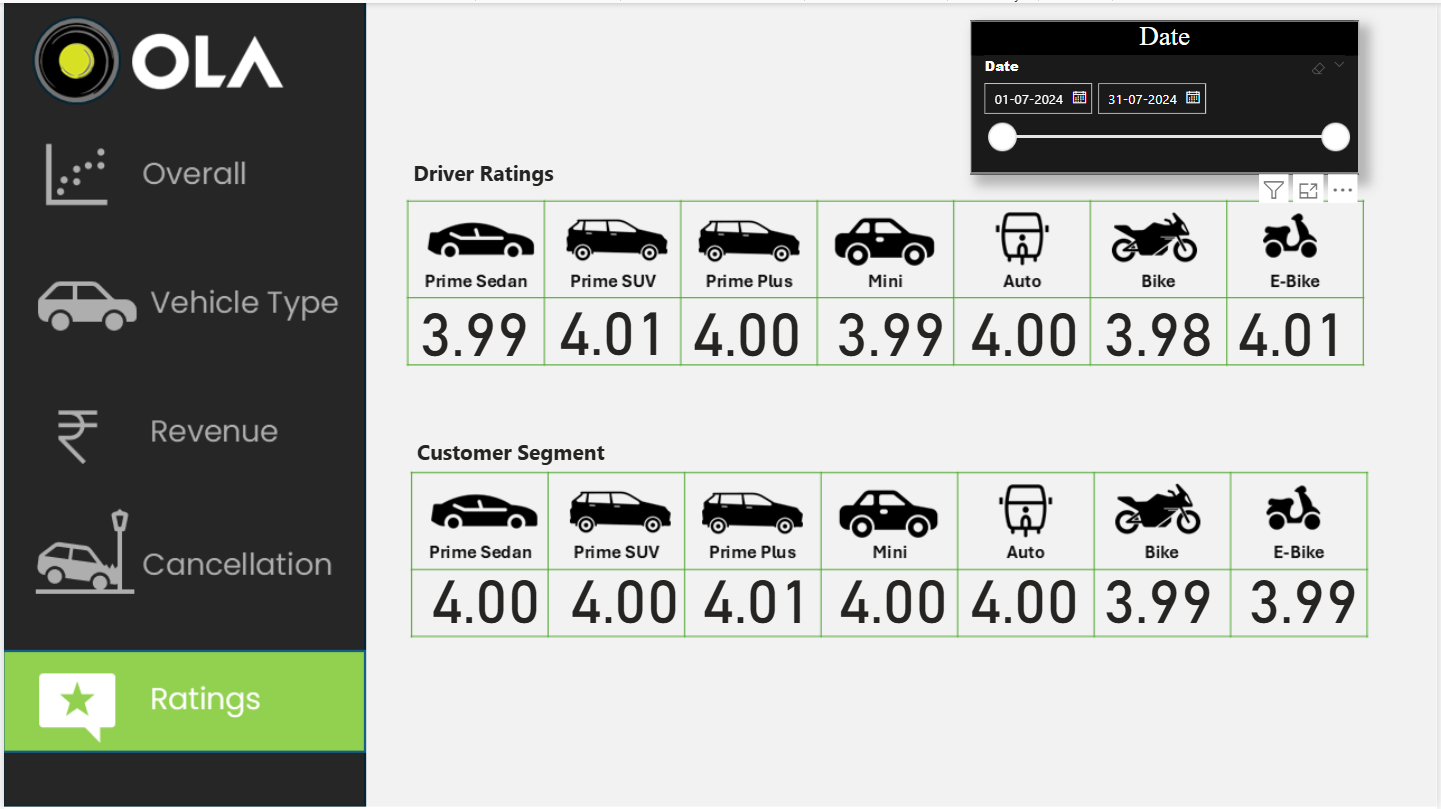

Layout of this report page (visuals, bound fields, positions):
{"tool":"powerbi","page":{"name":"Rating","canvas":[1280,720],"ordinal":4},"visuals":[{"type":"actionButton","box":[0,336,325.6,93],"z":0},{"type":"actionButton","box":[0,447.7,325.6,93],"z":1000},{"type":"actionButton","box":[0,576.7,325.6,93],"z":2000},{"type":"actionButton","box":[0,223.3,325.6,93],"z":3000},{"type":"actionButton","box":[0,447.7,325.6,93],"z":4000},{"type":"card","fields":{"Values":["Avg(July (2).Driver_Ratings)"]},"box":[360.9,256.6,119.4,65.9],"z":5000},{"type":"card","fields":{"Values":["Avg(July (2).Driver_Ratings)"]},"box":[603.8,256.6,119.4,65.9],"z":6000},{"type":"card","fields":{"Values":["Avg(July (2).Driver_Ratings)"]},"box":[732.8,256.6,119.4,65.9],"z":7000},{"type":"card","fields":{"Values":["Avg(July (2).Driver_Ratings)"]},"box":[852.1,256.6,119.4,65.9],"z":8000},{"type":"card","fields":{"Values":["Avg(July (2).Driver_Ratings)"]},"box":[971.5,256.6,119.4,65.9],"z":9000},{"type":"card","fields":{"Values":["Avg(July (2).Driver_Ratings)"]},"box":[1090.9,256.6,119.4,65.9],"z":10000},{"type":"card","fields":{"Values":["Avg(July (2).Driver_Ratings)"]},"box":[489.9,251.1,108.4,75.5],"z":11000},{"type":"textbox","box":[360.9,134.5,148.2,37],"z":12000},{"type":"textbox","box":[363.6,382.8,231.9,45.3],"z":13000},{"type":"card","fields":{"Values":["Avg(July (2).Customer_Rating)"]},"box":[370.5,494,119.4,65.9],"z":14000},{"type":"card","fields":{"Values":["Avg(July (2).Customer_Rating)"]},"box":[489.9,494,129,65.9],"z":15000},{"type":"card","fields":{"Values":["Avg(July (2).Customer_Rating)"]},"box":[1100.5,494,119.4,65.9],"z":16000},{"type":"card","fields":{"Values":["Avg(July (2).Customer_Rating)"]},"box":[971.5,494,119.4,65.9],"z":17000},{"type":"card","fields":{"Values":["Avg(July (2).Customer_Rating)"]},"box":[852.1,494,119.4,65.9],"z":18000},{"type":"card","fields":{"Values":["Avg(July (2).Customer_Rating)"]},"box":[734.1,494,119.4,65.9],"z":19000},{"type":"card","fields":{"Values":["Avg(July (2).Customer_Rating)"]},"box":[613.4,494,119.4,65.9],"z":20000},{"type":"slicer","title":"Date","fields":{"Values":["July (2).Date"]},"box":[863.1,15.1,347.2,137.2],"z":21000}]}

Visuals, with their boxes on the page's 1280x720 design canvas (x1, y1, x2, y2). These are canvas units, not pixel positions in the 1441x809 screenshot, which may show the page scaled, cropped or inside an application window:
actionButton: [left=0, top=336, right=326, bottom=429]
actionButton: [left=0, top=448, right=326, bottom=541]
actionButton: [left=0, top=577, right=326, bottom=670]
actionButton: [left=0, top=223, right=326, bottom=316]
actionButton: [left=0, top=448, right=326, bottom=541]
card - Avg(July (2).Driver_Ratings): [left=361, top=257, right=480, bottom=322]
card - Avg(July (2).Driver_Ratings): [left=604, top=257, right=723, bottom=322]
card - Avg(July (2).Driver_Ratings): [left=733, top=257, right=852, bottom=322]
card - Avg(July (2).Driver_Ratings): [left=852, top=257, right=972, bottom=322]
card - Avg(July (2).Driver_Ratings): [left=972, top=257, right=1091, bottom=322]
card - Avg(July (2).Driver_Ratings): [left=1091, top=257, right=1210, bottom=322]
card - Avg(July (2).Driver_Ratings): [left=490, top=251, right=598, bottom=327]
textbox: [left=361, top=134, right=509, bottom=172]
textbox: [left=364, top=383, right=596, bottom=428]
card - Avg(July (2).Customer_Rating): [left=370, top=494, right=490, bottom=560]
card - Avg(July (2).Customer_Rating): [left=490, top=494, right=619, bottom=560]
card - Avg(July (2).Customer_Rating): [left=1100, top=494, right=1220, bottom=560]
card - Avg(July (2).Customer_Rating): [left=972, top=494, right=1091, bottom=560]
card - Avg(July (2).Customer_Rating): [left=852, top=494, right=972, bottom=560]
card - Avg(July (2).Customer_Rating): [left=734, top=494, right=854, bottom=560]
card - Avg(July (2).Customer_Rating): [left=613, top=494, right=733, bottom=560]
"Date" slicer: [left=863, top=15, right=1210, bottom=152]
